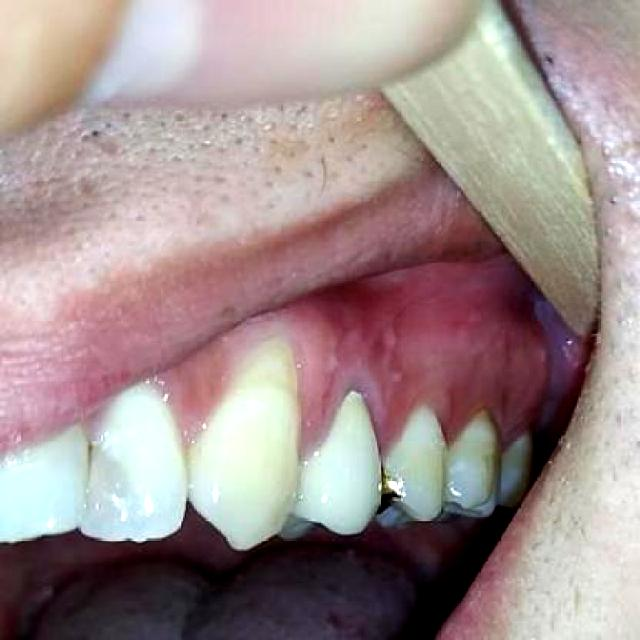Plaque: (333, 373, 379, 410)
